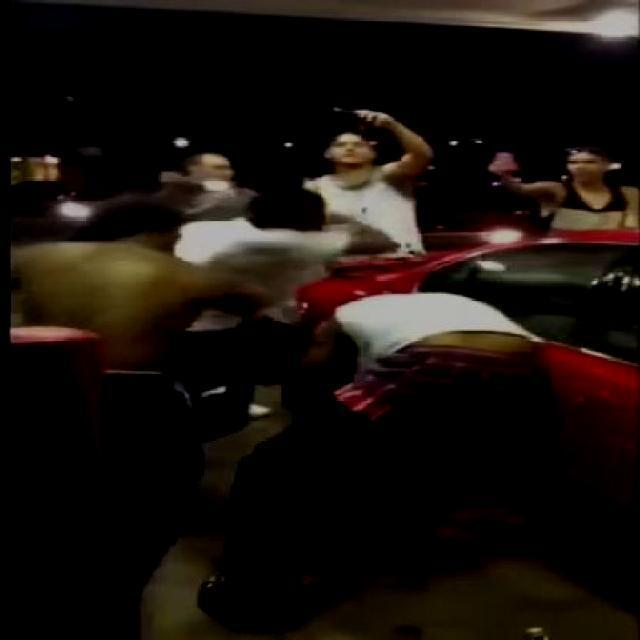fight: (13, 198, 570, 611)
